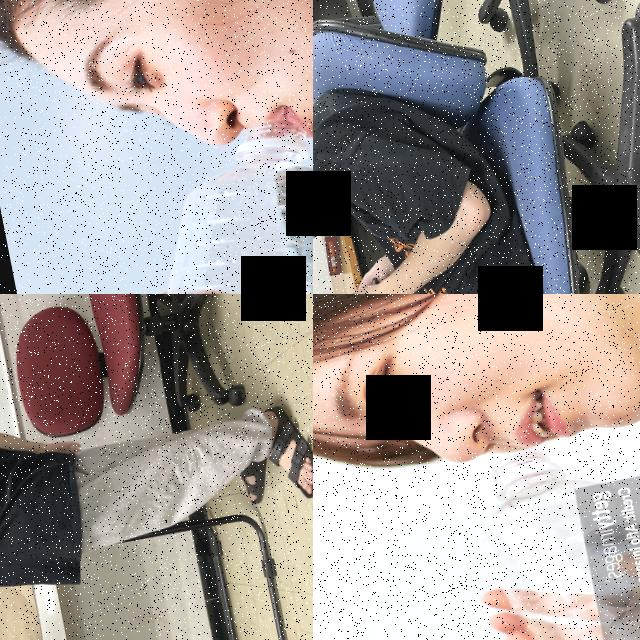bottle: (81, 111, 313, 294), (466, 417, 640, 640)
